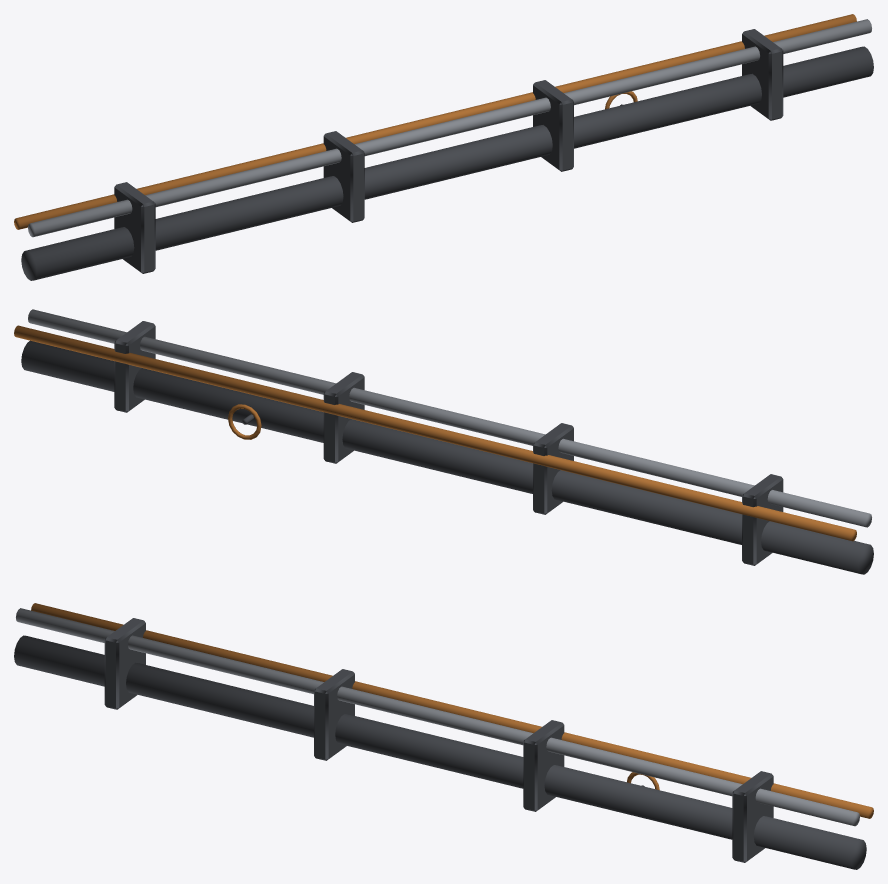
The model's file is SM_SB_Kit_PipeRun.fbx.
3 renders of one model, top to bottom at view 1: azimuth 30°, elevation 25°; view 2: azimuth 150°, elevation 25°; view 3: azimuth 330°, elevation 25°, orthographic.
Parts seen in each view (by area): view 1: SM_SB_Kit_PipeRun; view 2: SM_SB_Kit_PipeRun; view 3: SM_SB_Kit_PipeRun.
Part boxes in pixels (x1,y1,x2,y2): SM_SB_Kit_PipeRun: (14,14,873,280); SM_SB_Kit_PipeRun: (14,309,873,574); SM_SB_Kit_PipeRun: (14,603,873,869).
Size of the model in its own units: 800 by 51.73 by 64.
